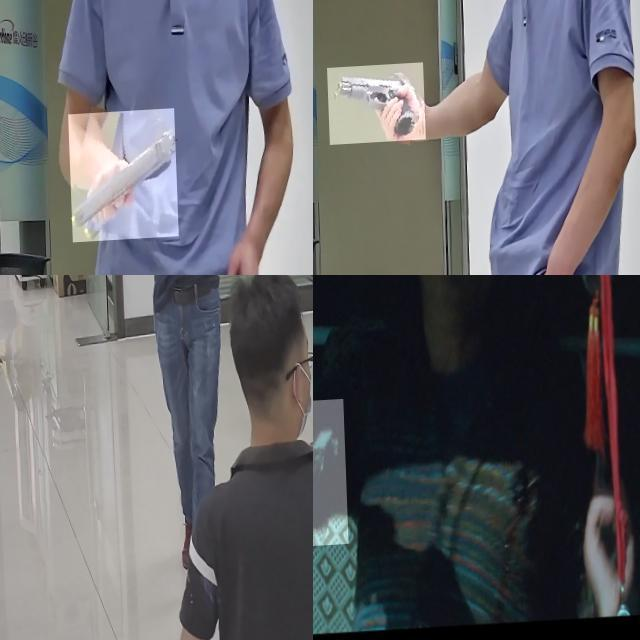gun-knife-thesis - v11 Yolov5 augmented: (67, 112, 177, 245), (313, 401, 378, 552), (326, 66, 424, 146)
